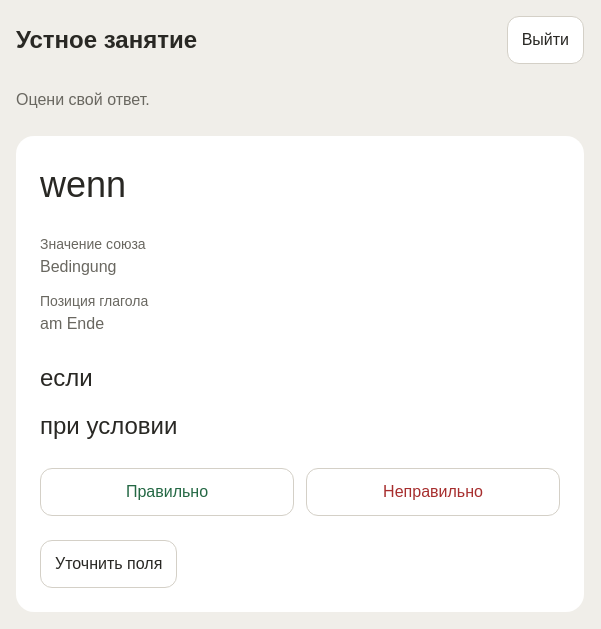
Test: OralScreen: «Уточнить поля» before the self-assessment › R2 the revealed question offers it; an unresolved grade, the next prefetched question and the summary do not
Expected: the button "Уточнить поля" is shown, [40,540,177,588]
Click the button "Правильно" at x=167, y=492, box [40,468,294,516]
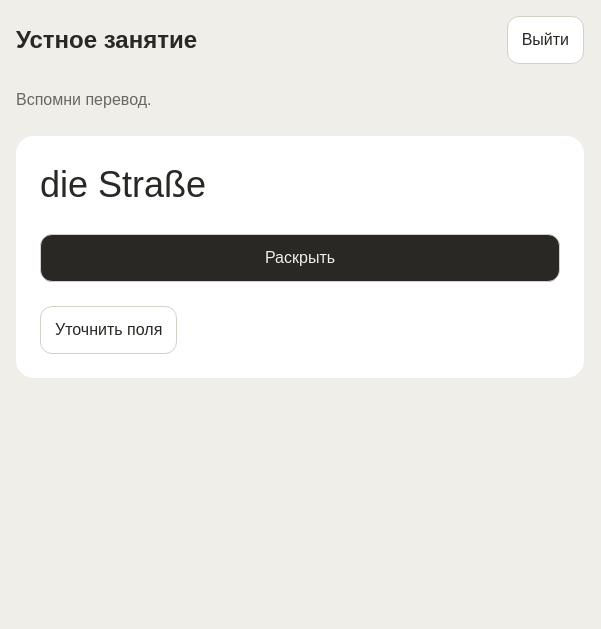
Expected: the text "Сохраняем действие…" is shown, [16,91,152,108]
Now the button "Раскрыть" is enabled, box [40,234,560,282]
Now the text "die Straße" is shown, box [40,164,206,205]
